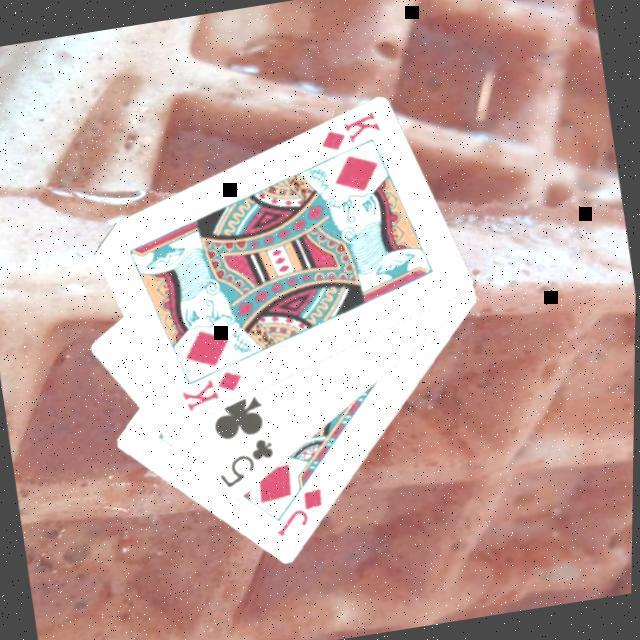5C: (212, 432, 284, 492)
JD: (270, 484, 334, 542)
KD: (176, 364, 253, 416), (314, 105, 388, 156)
